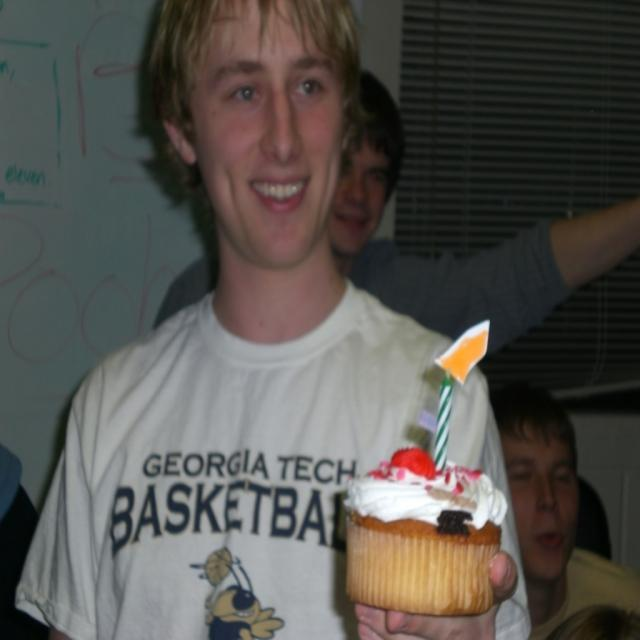Muffin: (337, 445, 510, 614)
